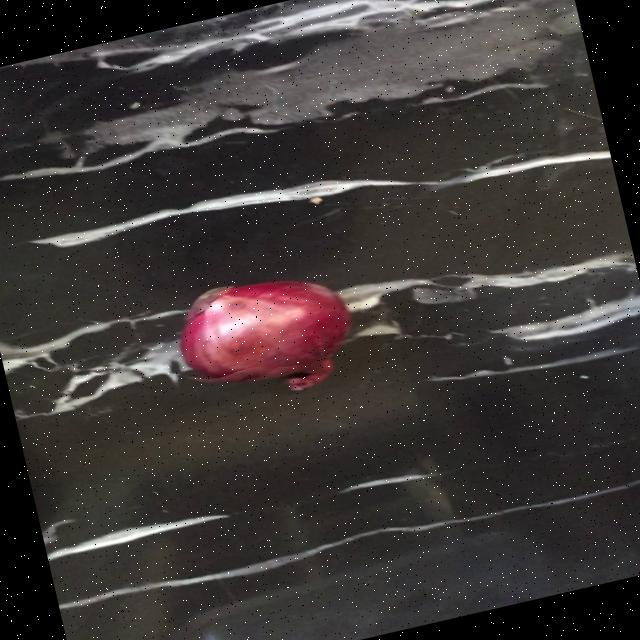Onion: (178, 279, 349, 388)
